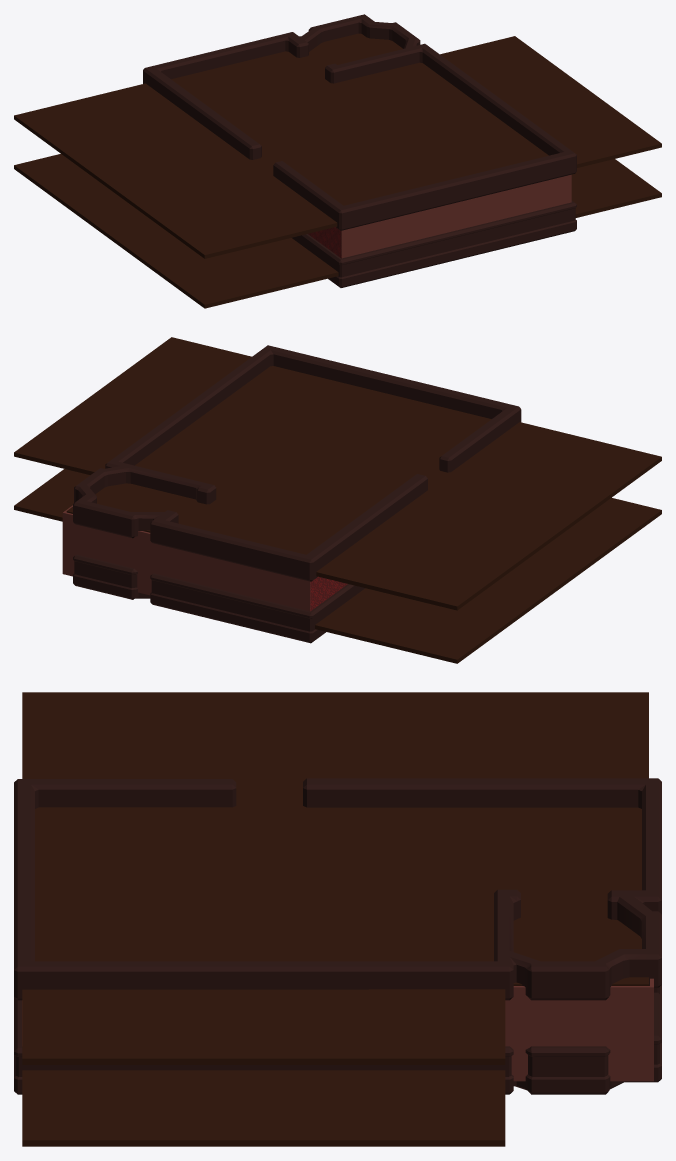
File: Gamearea_layout_01.fbx
3 renders of one model, top to bottom at view 1: azimuth 30°, elevation 25°; view 2: azimuth 150°, elevation 25°; view 3: azimuth 270°, elevation 25°, orthographic. The views are drawn at different scales.
Parts seen in each view (by area): view 1: ceiling, wall_02, floor, wall_01, wallpaper_01; view 2: ceiling, wall_02, floor, wall_01, wallpaper_01; view 3: ceiling, wall_02, floor, wall_01.
Boxes of the visible parts, left/top/right/bottom form: ceiling: left=14, top=33, right=661, bottom=258; wall_02: left=143, top=14, right=576, bottom=287; floor: left=14, top=154, right=661, bottom=308; wall_01: left=341, top=174, right=571, bottom=258; wallpaper_01: left=308, top=227, right=341, bottom=258; ceiling: left=14, top=337, right=661, bottom=610; wall_02: left=73, top=345, right=521, bottom=643; floor: left=14, top=469, right=661, bottom=663; wall_01: left=62, top=505, right=310, bottom=611; wallpaper_01: left=310, top=576, right=347, bottom=611; ceiling: left=22, top=692, right=648, bottom=1064; wall_02: left=14, top=778, right=661, bottom=1094; floor: left=22, top=1070, right=505, bottom=1146; wall_01: left=22, top=978, right=653, bottom=1081.
Size of the model in its own units: 31.42 by 5.12 by 23.49.
